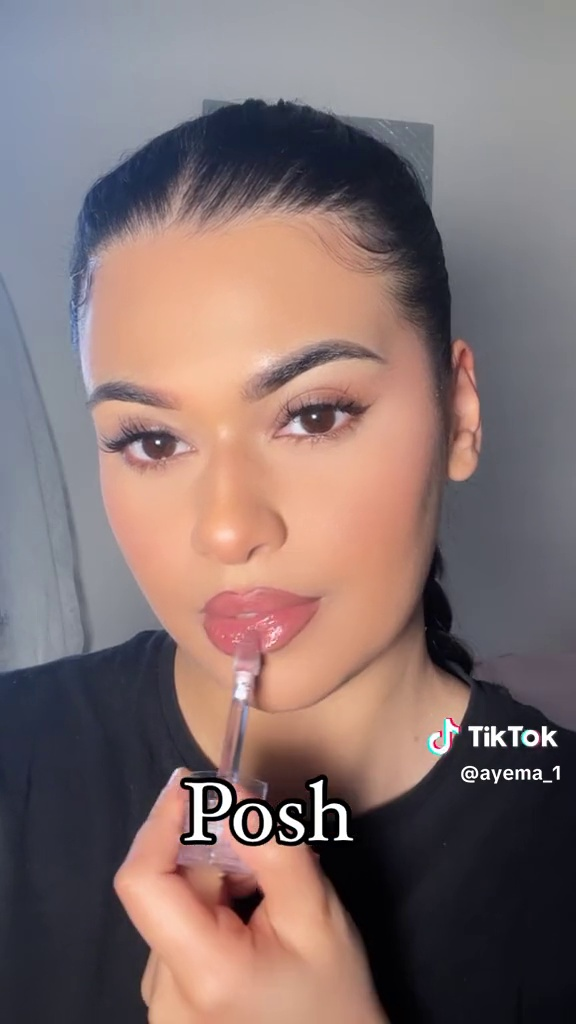train' :'yolo_data/train/images',: (172, 621, 271, 879)
